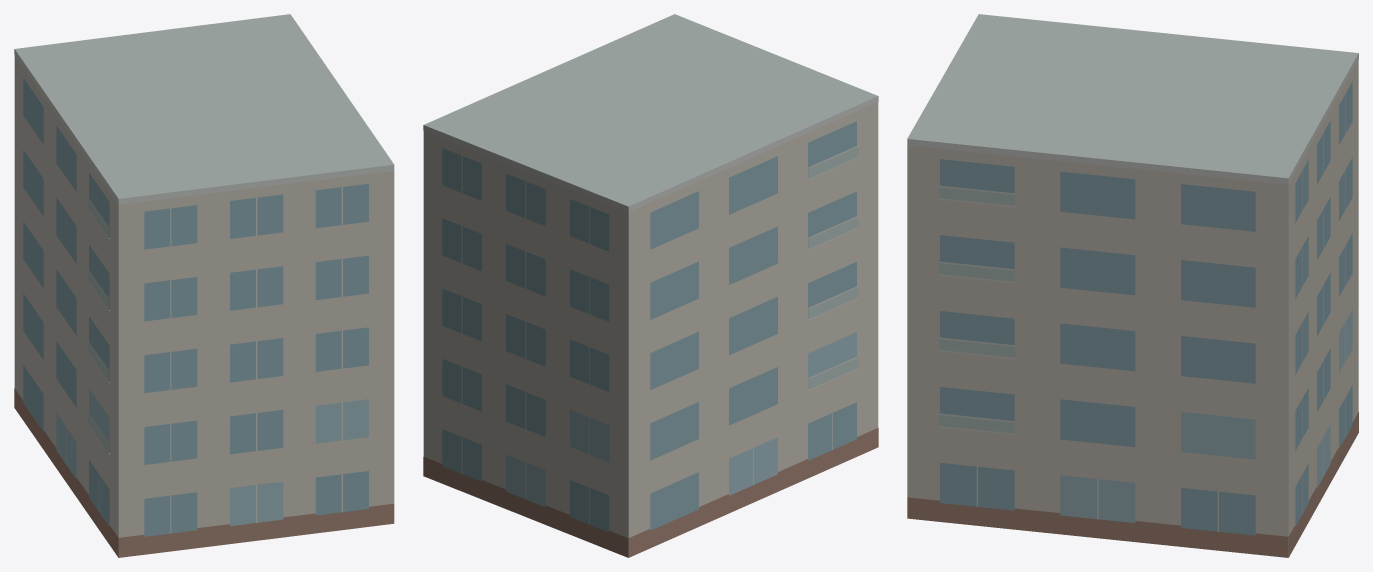
File: survey-upis-32872310.glb
3 renders of one model, left to right at view 1: azimuth 30°, elevation 25°; view 2: azimuth 150°, elevation 25°; view 3: azimuth 270°, elevation 25°, orthographic. The views are drawn at different scales.
Visible parts, largest first — view 1: survey-upis-32872310.tmp; view 2: survey-upis-32872310.tmp; view 3: survey-upis-32872310.tmp.
Part boxes in pixels (x1,y1,x2,y2): survey-upis-32872310.tmp: [14, 14, 394, 557]; survey-upis-32872310.tmp: [423, 14, 878, 557]; survey-upis-32872310.tmp: [907, 14, 1358, 557].
Size of the model in its own units: 13.47 by 14.5 by 15.64.
